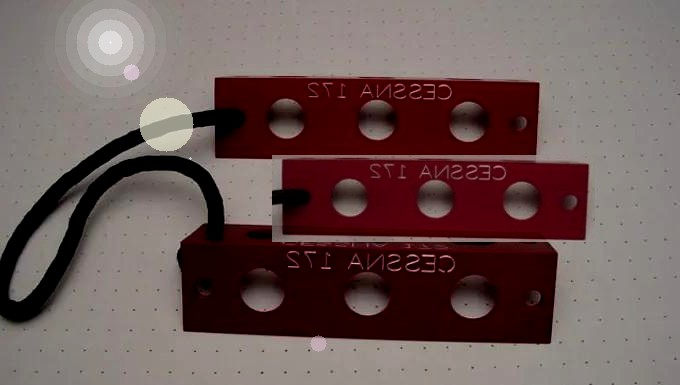chock: (173, 221, 561, 347), (203, 74, 545, 166), (272, 155, 595, 242)
